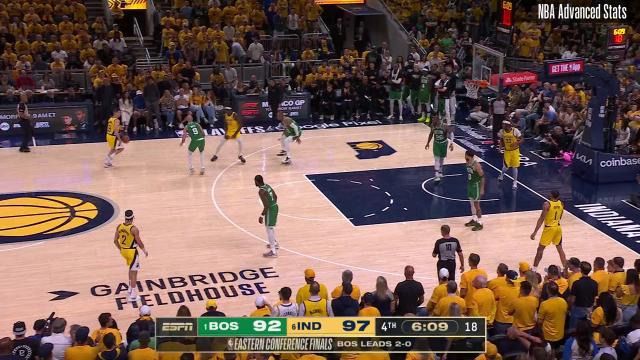b_sx: (414, 116, 428, 128)
free_adx: (348, 220, 360, 232)
free_asx: (298, 169, 310, 181)
free_bsx: (479, 156, 488, 166)
mid_sx: (176, 134, 184, 142)
referee: (430, 224, 466, 288), (485, 91, 507, 149), (16, 91, 36, 153)
team: (114, 210, 148, 306), (529, 191, 567, 269), (209, 107, 247, 165), (495, 119, 525, 189), (104, 109, 128, 168)
team1: (254, 173, 282, 258), (426, 114, 456, 182), (462, 149, 486, 231), (272, 110, 302, 166), (182, 115, 206, 176)
timer: (408, 318, 452, 334)
